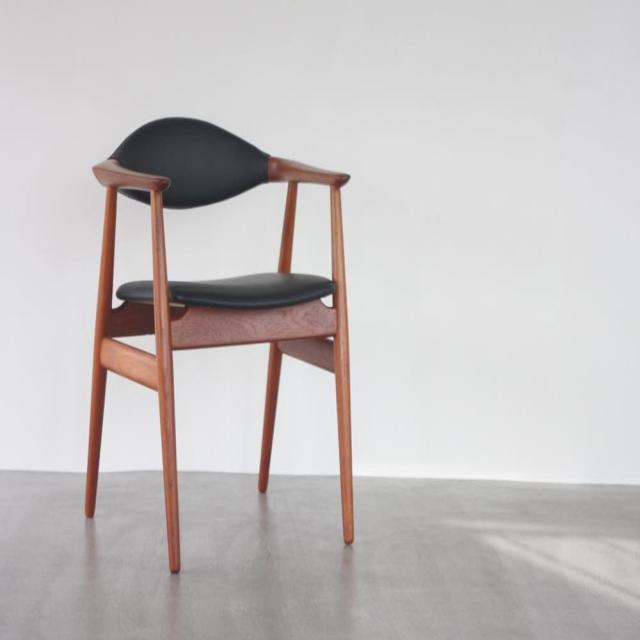chair vintage: (81, 110, 360, 577)
